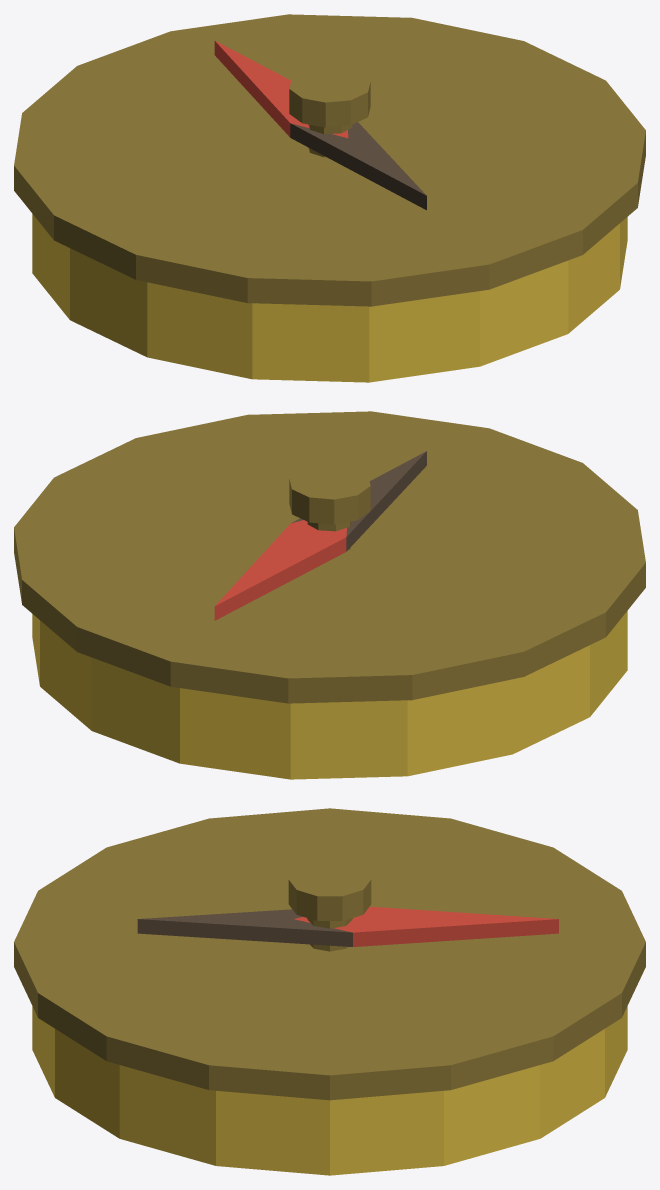
File: Compass.fbx
The picture shows the model from 3 angles, top to bottom: view 1: azimuth 30°, elevation 25°; view 2: azimuth 150°, elevation 25°; view 3: azimuth 270°, elevation 25°; orthographic projection.
Parts seen in each view (by area): view 1: Compass_Bezel, Compass_Body, Compass_Ring, Compass_Needle_S, Compass_Needle_N; view 2: Compass_Bezel, Compass_Body, Compass_Needle_N, Compass_Ring, Compass_Needle_S; view 3: Compass_Bezel, Compass_Body, Compass_Needle_N, Compass_Needle_S, Compass_Ring.
Boxes of the visible parts, left/top/right/bottom form: Compass_Bezel: left=14, top=14, right=645, bottom=306; Compass_Body: left=32, top=214, right=627, bottom=382; Compass_Ring: left=289, top=67, right=370, bottom=127; Compass_Needle_S: left=290, top=122, right=426, bottom=210; Compass_Needle_N: left=214, top=41, right=348, bottom=138; Compass_Bezel: left=14, top=411, right=645, bottom=703; Compass_Body: left=32, top=611, right=627, bottom=779; Compass_Needle_N: left=214, top=520, right=346, bottom=620; Compass_Ring: left=289, top=464, right=370, bottom=524; Compass_Needle_S: left=291, top=451, right=426, bottom=551; Compass_Bezel: left=14, top=808, right=645, bottom=1100; Compass_Body: left=32, top=1006, right=627, bottom=1175; Compass_Needle_N: left=294, top=906, right=558, bottom=946; Compass_Needle_S: left=137, top=909, right=352, bottom=946; Compass_Ring: left=288, top=863, right=371, bottom=920.
Bounding box in the file's own units: 138 × 41 × 138.
